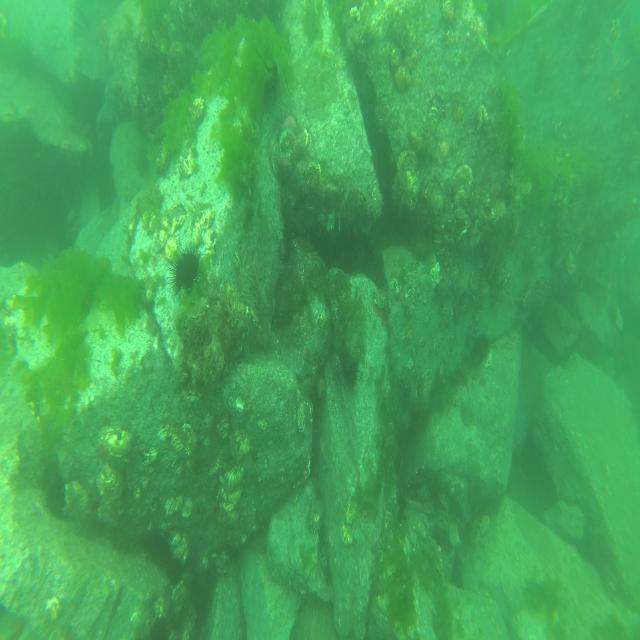echinus: (164, 241, 204, 297), (336, 342, 362, 396), (469, 327, 495, 371)
holothurian: (190, 197, 213, 234), (163, 203, 187, 228)
